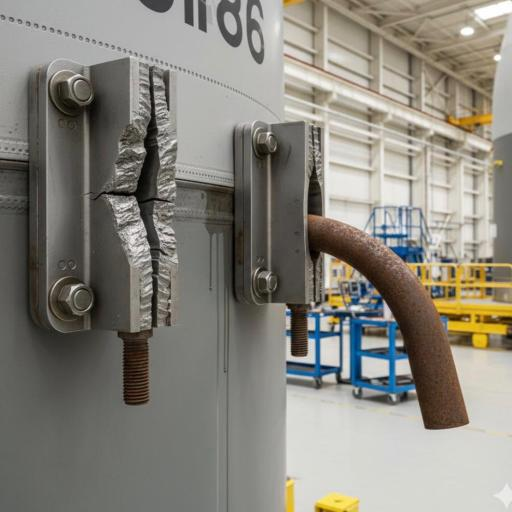fastening deformation: (79, 13, 248, 339)
